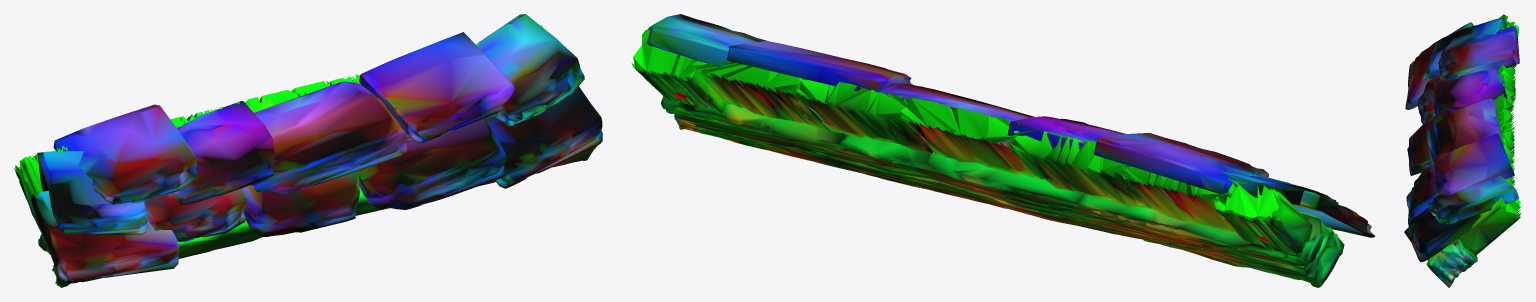
Rendered from SM_Stone_RoofOverhang.fbx.
The picture shows the model from 3 angles, left to right: view 1: azimuth 30°, elevation 25°; view 2: azimuth 150°, elevation 25°; view 3: azimuth 270°, elevation 25°; orthographic projection. The views are drawn at different scales.
Parts seen in each view (by area): view 1: SM_Stone_RoofOverhang_LOD0; view 2: SM_Stone_RoofOverhang_LOD0; view 3: SM_Stone_RoofOverhang_LOD0.
Part boxes in pixels (<box>): SM_Stone_RoofOverhang_LOD0: <box>14,14,602,287</box>; SM_Stone_RoofOverhang_LOD0: <box>631,14,1374,287</box>; SM_Stone_RoofOverhang_LOD0: <box>1404,14,1521,287</box>.
Bounding box in the file's own units: 315 × 76.38 × 65.94.
